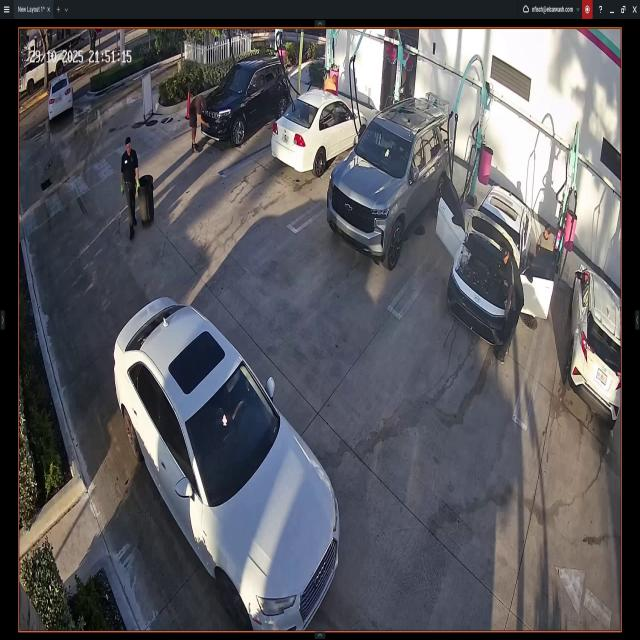Car: (114, 300, 339, 630), (329, 89, 450, 269), (444, 174, 557, 352), (200, 57, 288, 152), (570, 266, 620, 426), (274, 90, 367, 172), (48, 72, 75, 124)
